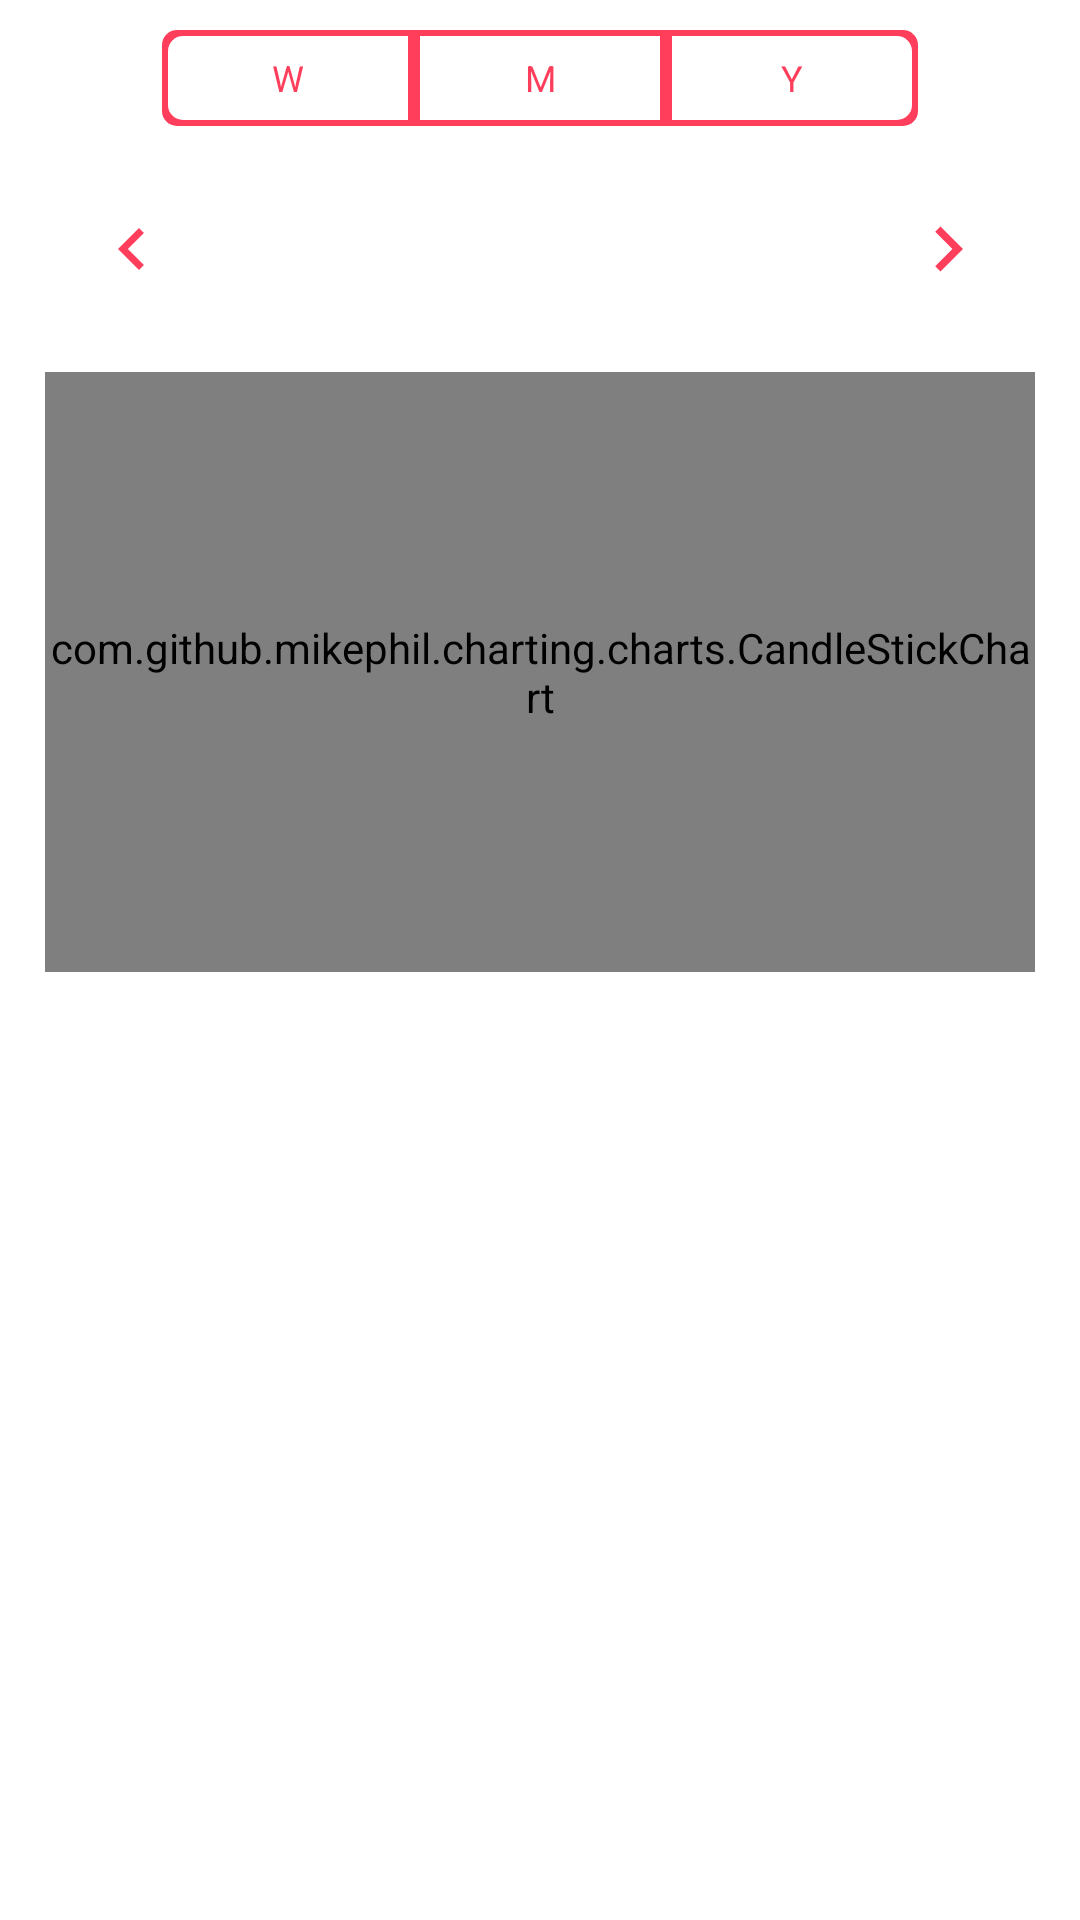

Icon click points for this 1080px x 1920px phone screenshot, format (x=x, y=y):
left: (x=131, y=249)
right: (x=949, y=249)
